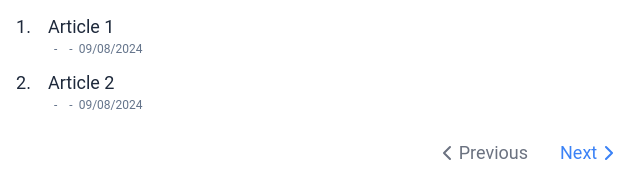
Scenario: NewsFeed › should move to the next page when clicking "Next"
Click the button "Next": click(591, 153) [560,139,621,167]
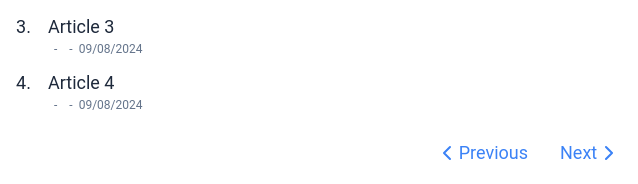
expect the number of links is 2: met, box [16,16,142,56]; [16,72,142,112]
expect the link "3. Article 3 - - 09/08/2024" is shown: met, box [16,16,142,56]
expect the link "4. Article 4 - - 09/08/2024" is shown: met, box [16,72,142,112]
